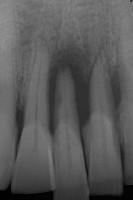Dental Caries: (49, 44, 97, 127)
